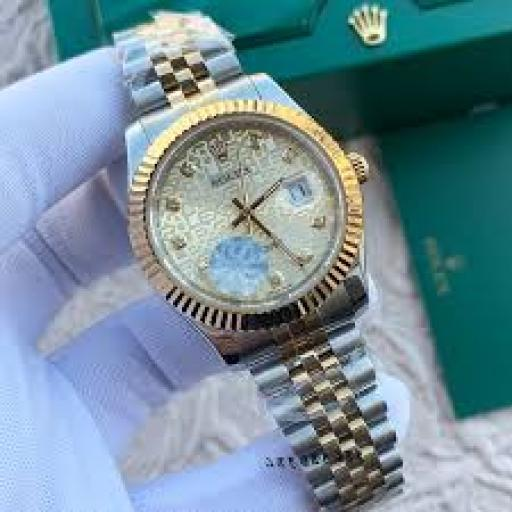KolSaati: (94, 8, 446, 505)
